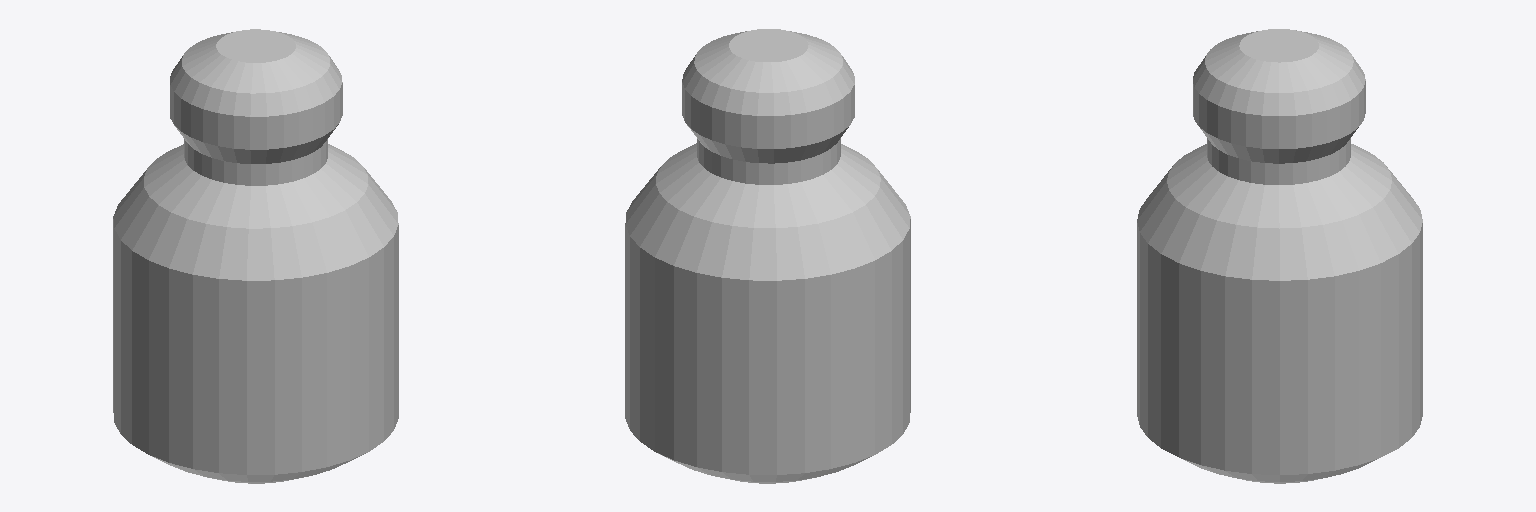
The model's file is pin.obj.
3 views of the same model, side by side, from view 1: azimuth 30°, elevation 25°; view 2: azimuth 150°, elevation 25°; view 3: azimuth 270°, elevation 25° (orthographic).
Parts seen in each view (by area): view 1: Cylinder_Cylinder.002; view 2: Cylinder_Cylinder.002; view 3: Cylinder_Cylinder.002.
Part boxes in pixels (x1,y1,x2,y2): Cylinder_Cylinder.002: (113, 29, 398, 483); Cylinder_Cylinder.002: (625, 29, 910, 483); Cylinder_Cylinder.002: (1137, 29, 1422, 483).
Bounding box in the file's own units: 0.4 × 0.6489 × 0.4.